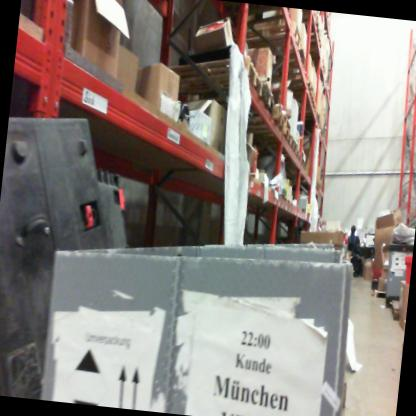pallet: (155, 46, 264, 112), (203, 70, 277, 123), (220, 94, 288, 147), (242, 16, 309, 60), (370, 281, 400, 321), (292, 22, 328, 55), (278, 73, 318, 99), (293, 95, 318, 114), (291, 151, 309, 174), (276, 117, 292, 140), (283, 133, 298, 156), (293, 142, 303, 164)
small_load_carrier: (401, 253, 412, 284)
